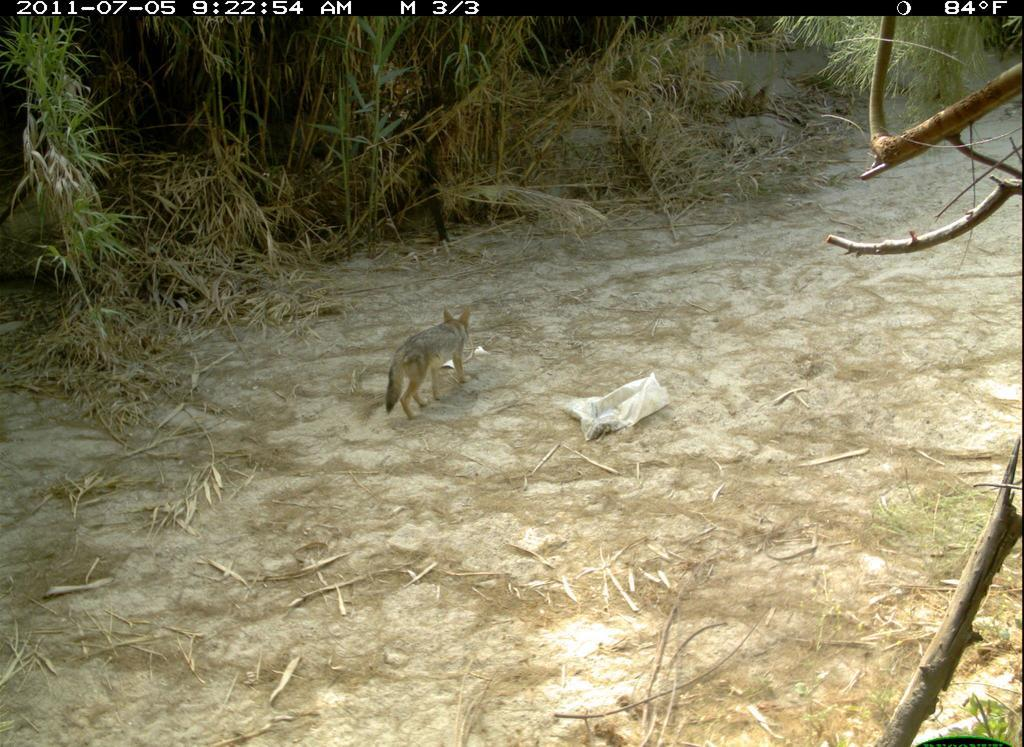coyote: (369, 300, 523, 434)
